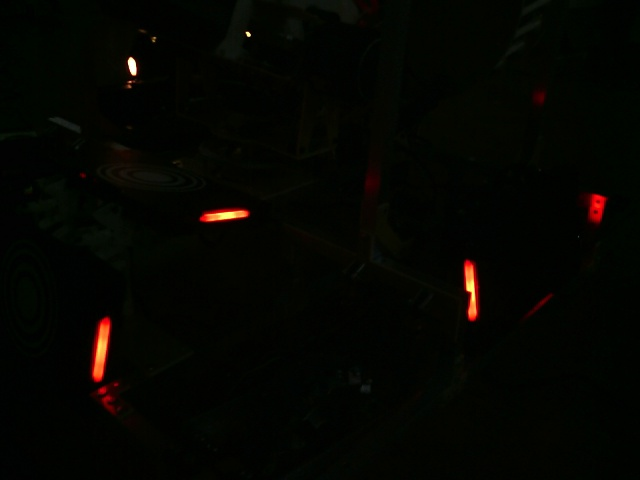lamp: (87, 312, 113, 385), (460, 255, 482, 323)
